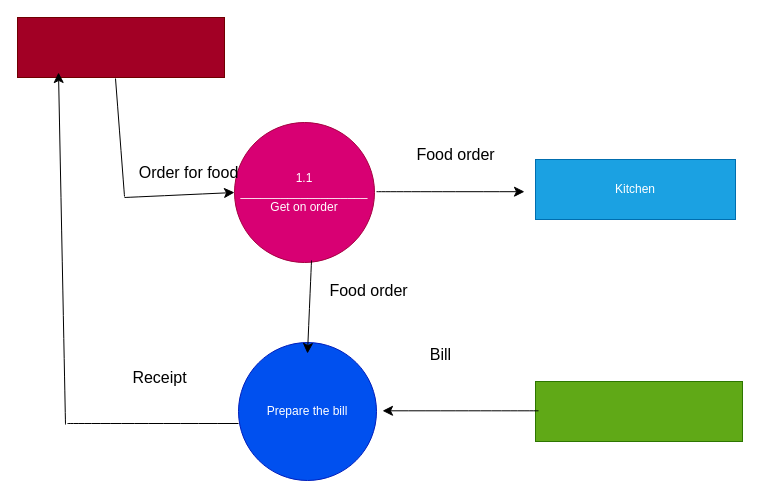
Some shapes in this 760 by 498 pixel diagram are drawn without their labels. Here are the shapes that lost their labels. From the top down, the centre of each, then its label:
At point (120, 47): "Customer".
At point (638, 411): "Restuarant manager".
